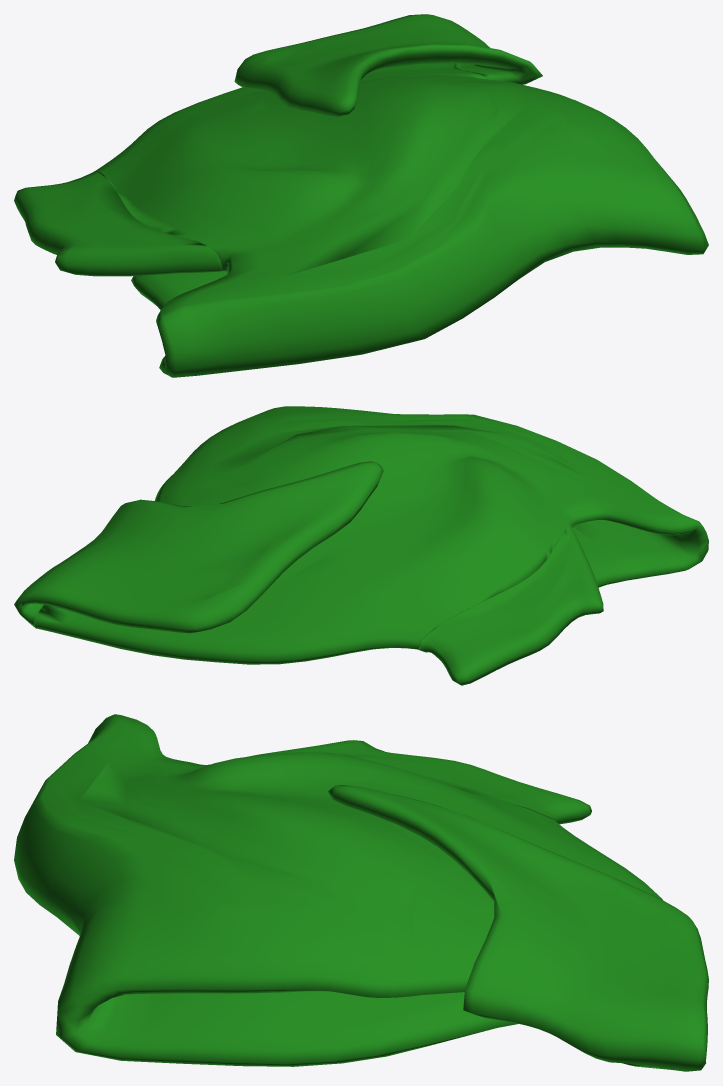
Rendered from MDL_CLGR_wet.fbx.
3 views of the same model, one above another, from view 1: azimuth 30°, elevation 25°; view 2: azimuth 150°, elevation 25°; view 3: azimuth 270°, elevation 25° (orthographic). The views are drawn at different scales.
Visible parts, largest first — view 1: MDL_CL_washed; view 2: MDL_CL_washed; view 3: MDL_CL_washed.
Boxes of the visible parts, <box> form: MDL_CL_washed: <box>14,14,708,377</box>; MDL_CL_washed: <box>14,406,708,685</box>; MDL_CL_washed: <box>14,714,708,1071</box>.
Size of the model in its own units: 88.1 by 21.21 by 85.2.
